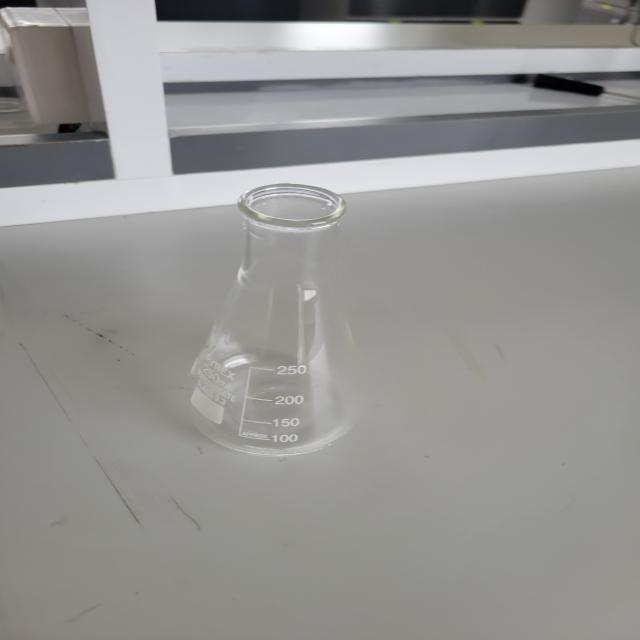Conical_Flask: (148, 145, 396, 475)
